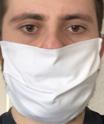with_mask: (1, 1, 104, 124)
